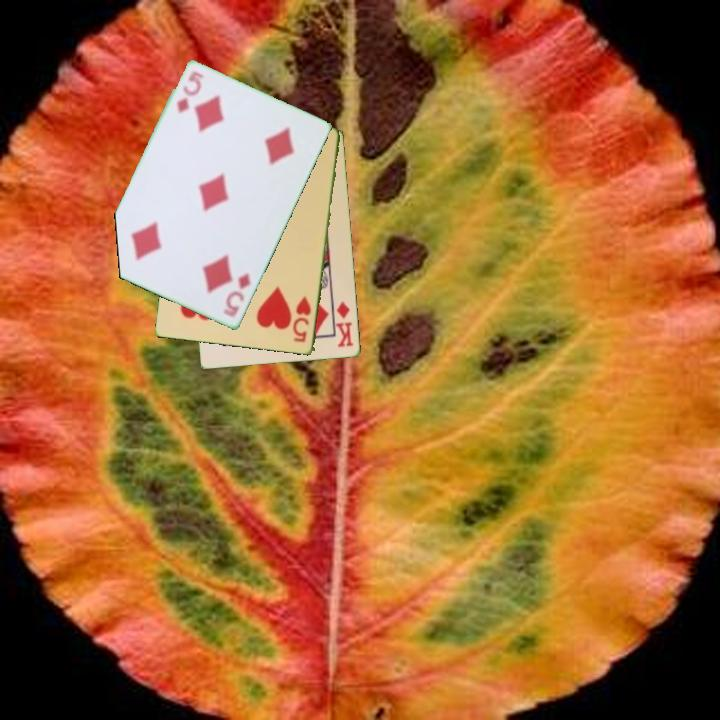5d: (220, 270, 254, 320), (173, 68, 206, 117)
5h: (290, 293, 314, 345)
Kd: (333, 298, 356, 350)
